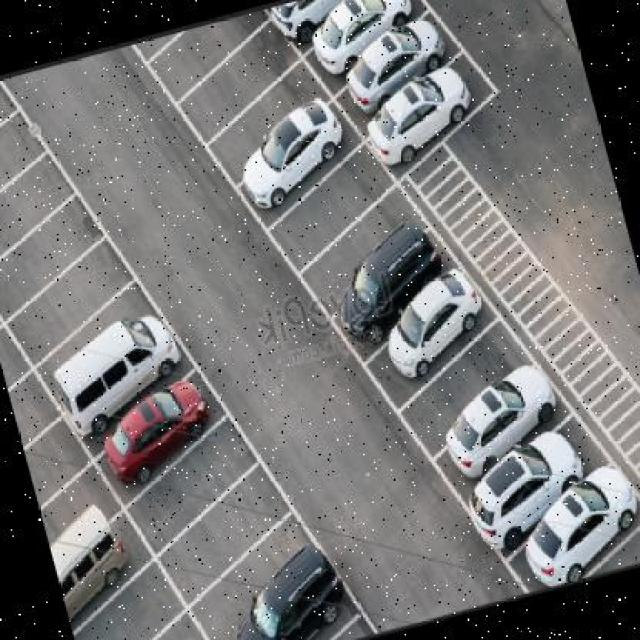Car: (64, 304, 187, 409), (247, 99, 352, 195), (252, 555, 363, 640), (112, 384, 219, 461), (530, 476, 627, 558), (449, 390, 540, 475), (380, 69, 463, 150), (337, 261, 428, 326), (477, 458, 566, 524), (343, 43, 432, 109), (384, 296, 476, 358), (66, 509, 137, 583), (312, 6, 393, 60), (284, 1, 340, 32)
Empty: (415, 350, 521, 426), (202, 549, 298, 618), (216, 81, 315, 147), (184, 46, 286, 109), (179, 512, 272, 578), (69, 578, 164, 640), (149, 469, 240, 526), (23, 275, 103, 339), (169, 20, 260, 74), (324, 213, 400, 275), (289, 187, 353, 255), (9, 232, 78, 281), (1, 193, 47, 238), (1, 143, 35, 197), (50, 475, 95, 509), (26, 444, 64, 480), (26, 399, 46, 415), (1, 349, 7, 360)
